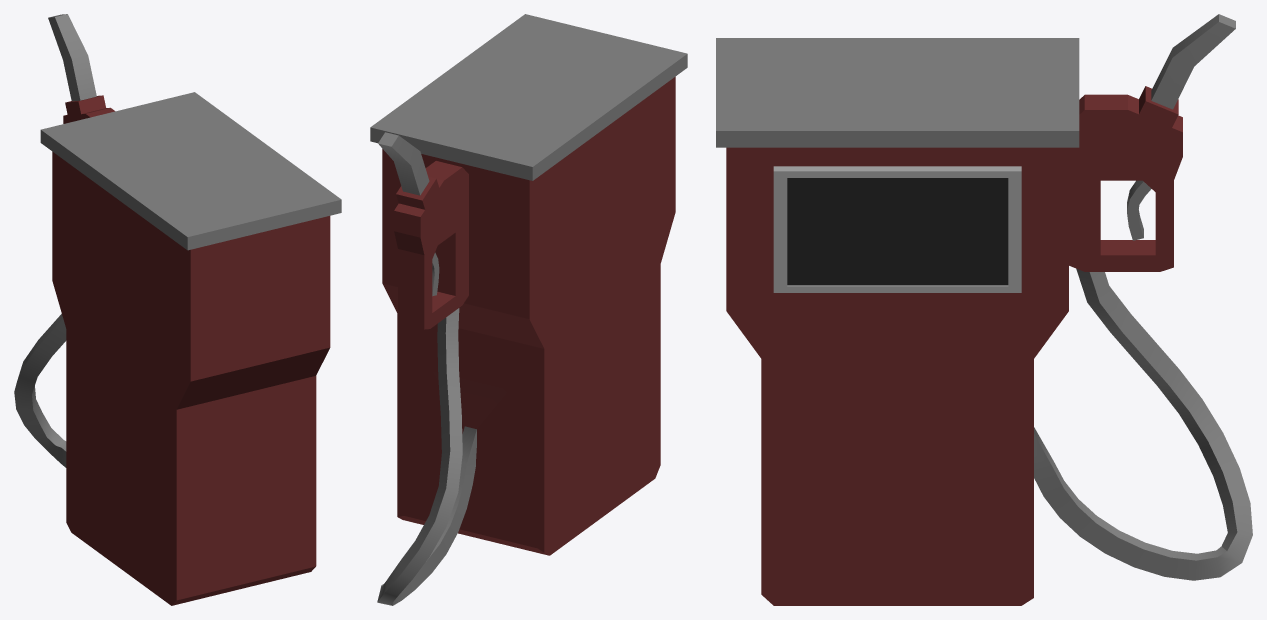
File: FuelPump.fbx
3 renders of one model, left to right at view 1: azimuth 30°, elevation 25°; view 2: azimuth 150°, elevation 25°; view 3: azimuth 270°, elevation 25°, orthographic. The views are drawn at different scales.
Parts seen in each view (by area): view 1: pCube43; view 2: pCube43; view 3: pCube43.
Part boxes in pixels (box(x1,y1,x2,y2)): pCube43: box(14, 14, 341, 605); pCube43: box(370, 14, 687, 605); pCube43: box(716, 14, 1252, 605).
Bounding box in the file's own units: 0.00812 × 0.0225 × 0.0197.
